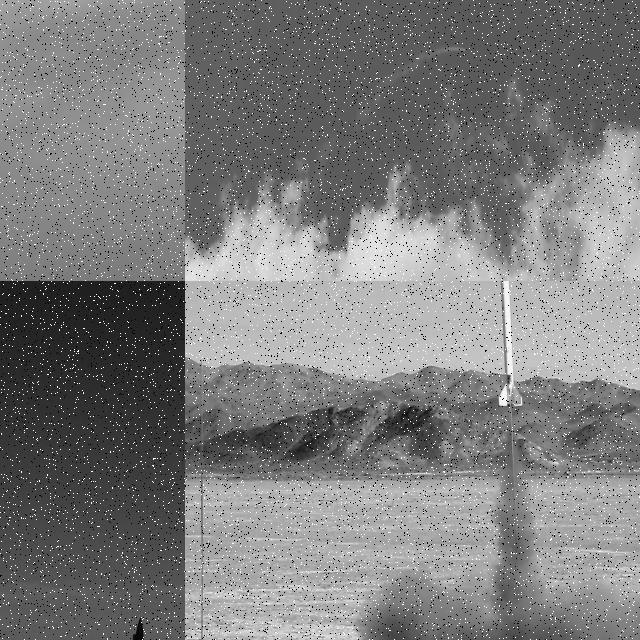Rocket: (497, 281, 522, 407), (114, 617, 153, 640), (465, 49, 467, 52)
